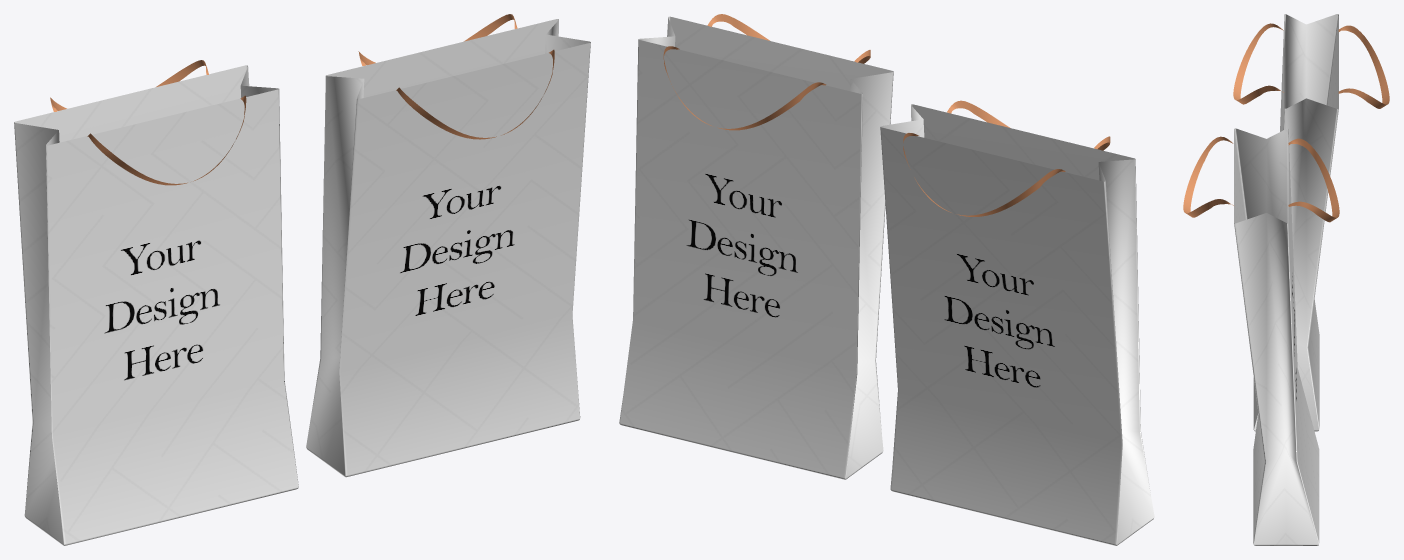
File: Paper Bag A-1.glb
The picture shows the model from 3 angles, left to right: view 1: azimuth 30°, elevation 25°; view 2: azimuth 150°, elevation 25°; view 3: azimuth 270°, elevation 25°; orthographic projection. The views are drawn at different scales.
Parts seen in each view (by area): view 1: Object_2.003, Object_2.001, Object_2.002, Object_2.004; view 2: Object_2.001, Object_2.003, Object_2.002, Object_2.004; view 3: Object_2.001, Object_2.003, Object_2.002, Object_2.004.
Part boxes in pixels (x1,y1,x2,y2): Object_2.003: (14, 65, 298, 545); Object_2.001: (306, 19, 590, 477); Object_2.002: (358, 14, 554, 139); Object_2.004: (50, 60, 246, 185); Object_2.001: (619, 16, 893, 479); Object_2.003: (880, 104, 1154, 545); Object_2.002: (663, 14, 870, 130); Object_2.004: (903, 100, 1110, 216); Object_2.001: (1234, 128, 1319, 545); Object_2.003: (1253, 14, 1338, 431); Object_2.002: (1183, 136, 1339, 222); Object_2.004: (1233, 23, 1389, 108).
Bounding box in the file's own units: 7.84 × 5.73 × 3.25.
Materials: 2 (1 with a texture image).
